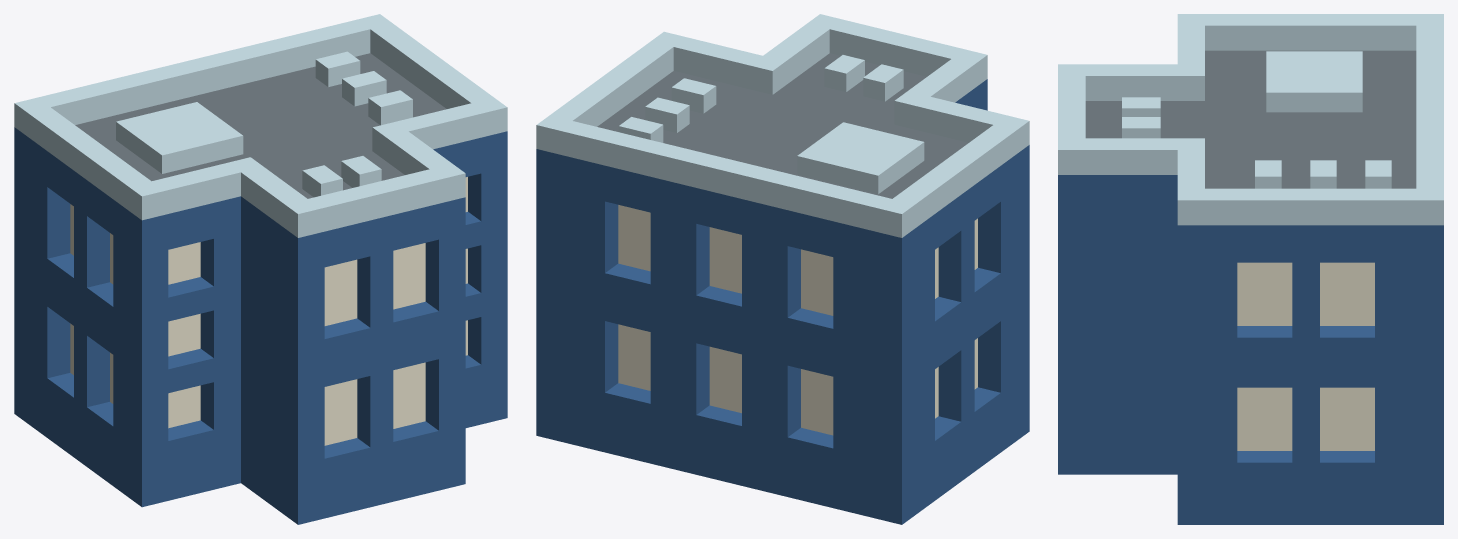
Rendered from Building_12_Extra (Blue).obj.
3 renders of one model, left to right at view 1: azimuth 30°, elevation 25°; view 2: azimuth 150°, elevation 25°; view 3: azimuth 270°, elevation 25°, orthographic. The views are drawn at different scales.
Visible parts, largest first — view 1: Building_12_Extra_(Blue); view 2: Building_12_Extra_(Blue); view 3: Building_12_Extra_(Blue).
Part boxes in pixels (bbox=[...]): Building_12_Extra_(Blue): bbox=[14, 14, 507, 524]; Building_12_Extra_(Blue): bbox=[536, 14, 1029, 524]; Building_12_Extra_(Blue): bbox=[1058, 14, 1443, 524].
Bounding box in the file's own units: 1.6 × 1.3 × 1.4.
